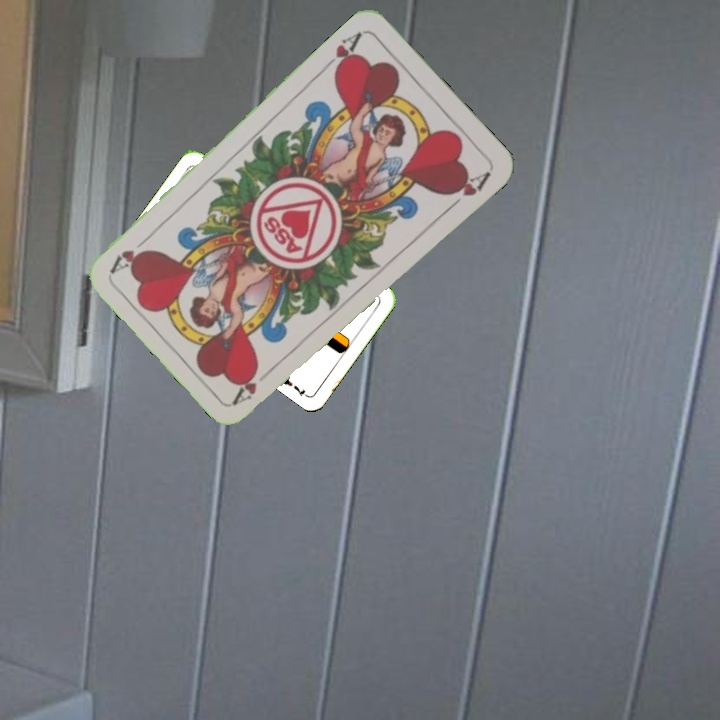HA: (318, 28, 365, 77), (229, 361, 278, 407)
